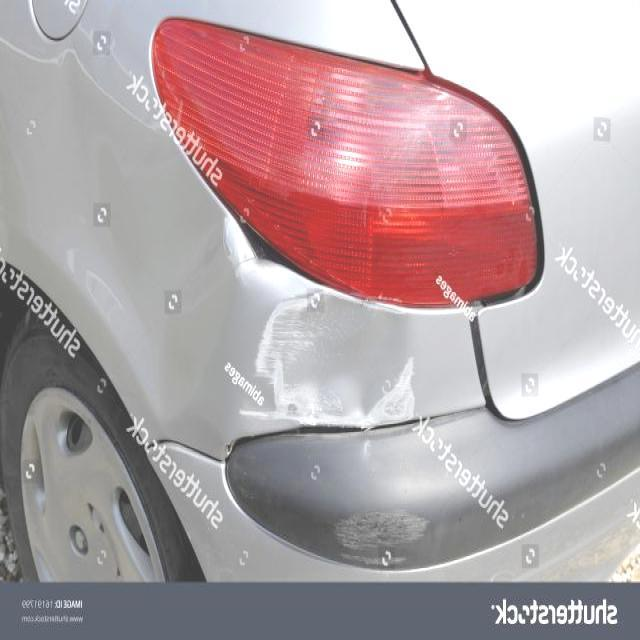minor: (221, 210, 310, 300), (336, 507, 430, 561)
moderate: (241, 293, 414, 429)
